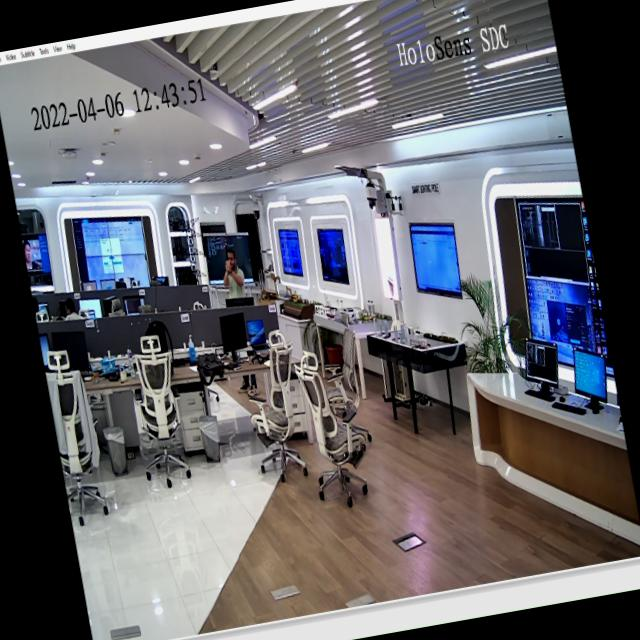long weapon: (215, 230, 237, 280)
